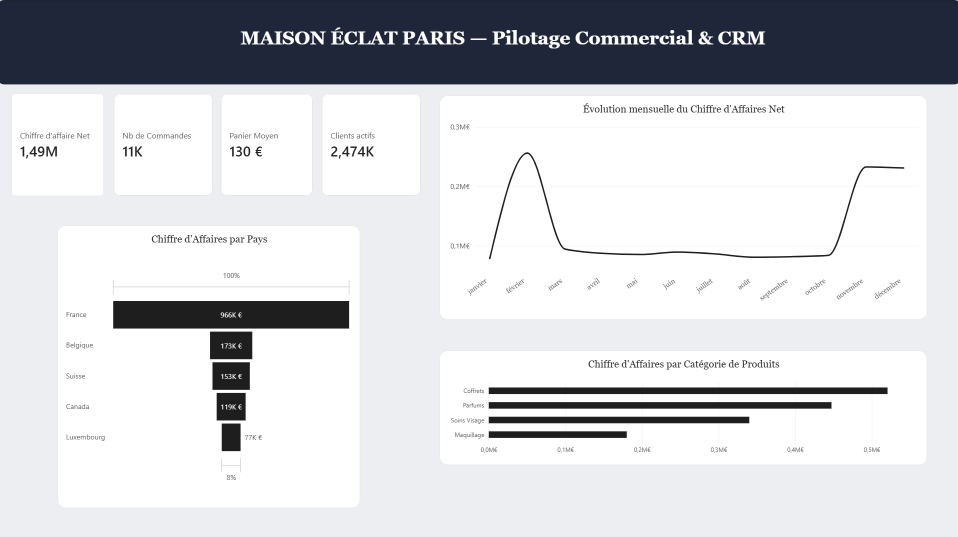

The dashboard page shown, as its layout file describes it:
{"tool":"powerbi","page":{"name":"Chiffre d'affaire","canvas":[1920,1080],"ordinal":0},"visuals":[{"type":"shape","box":[0,0,1920,170],"z":0},{"type":"textbox","box":[486,56,1114,58],"z":1000},{"type":"cardVisual","title":"Chiffre d''Affaires par Catégorie de Produits","fields":{"Data":["sales.CA Net"]},"box":[30,186,184,204],"z":2000},{"type":"cardVisual","fields":{"Data":["sales.Nb Commandes"]},"box":[232,186,198,204],"z":3000},{"type":"cardVisual","fields":{"Data":["sales.Panier Moyen"]},"box":[446,186,184,204],"z":4000},{"type":"cardVisual","fields":{"Data":["Count(customers.customer_id)"]},"box":[646,186,198,204],"z":5000},{"type":"lineChart","title":"Évolution mensuelle du Chiffre d''Affaires Net ","fields":{"Category":["sales.date.Variation.Hiérarchie de dates.Année","sales.date.Variation.Hiérarchie de dates.Mois"],"Y":["sales.CA Net"]},"box":[882,190,970,446],"z":6000},{"type":"barChart","title":"Chiffre d''Affaires par Catégorie de Produits","fields":{"Category":["sales.category"],"Y":["sales.CA Net"]},"box":[882,698,970,228],"z":7000},{"type":"funnel","title":"Chiffre d''Affaires par Pays","fields":{"Category":["customers.country"],"Y":["sales.CA Net"]},"box":[122,450,602,562],"z":8000}]}

Visuals, with their boxes in screenshot pixels (x1, y1, x2, y2), scaled from the page's 1920x1080 canvas onto the 958x537 screenshot:
shape: crop(0, 0, 957, 85)
textbox: crop(242, 28, 798, 57)
"Chiffre d''Affaires par Catégorie de Produits" cardVisual: crop(15, 92, 107, 194)
cardVisual - sales.Nb Commandes: crop(116, 92, 215, 194)
cardVisual - sales.Panier Moyen: crop(223, 92, 314, 194)
cardVisual - Count(customers.customer_id): crop(322, 92, 421, 194)
"Évolution mensuelle du Chiffre d''Affaires Net " lineChart: crop(440, 94, 924, 316)
"Chiffre d''Affaires par Catégorie de Produits" barChart: crop(440, 347, 924, 460)
"Chiffre d''Affaires par Pays" funnel: crop(61, 224, 361, 503)
